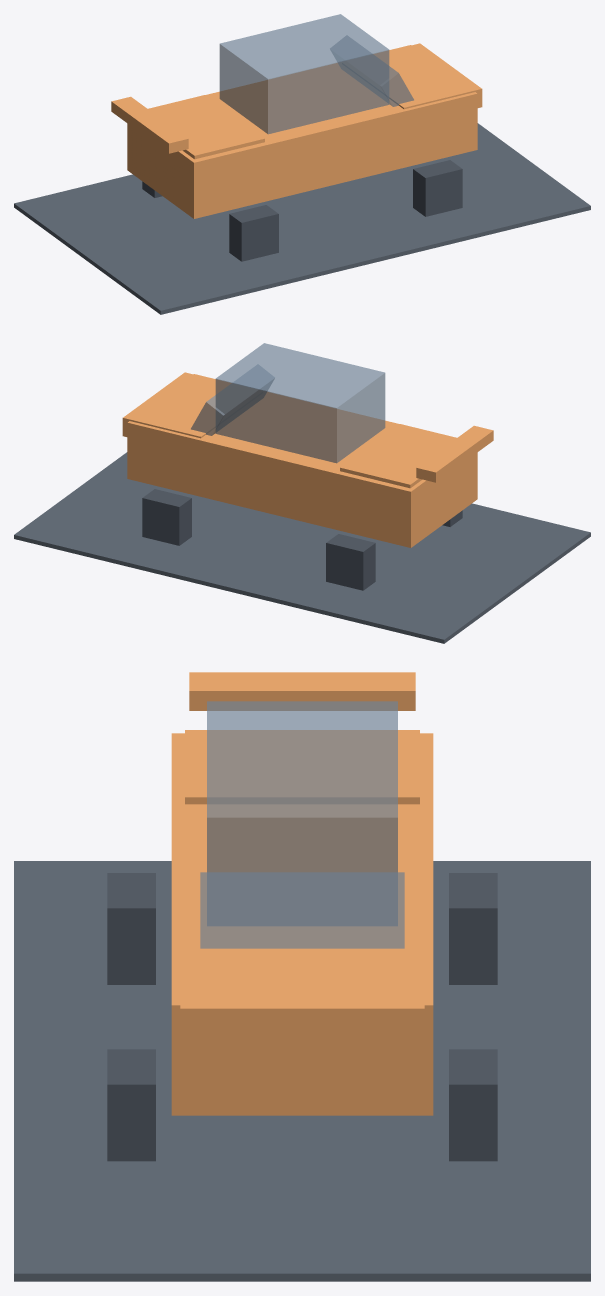
Rendered from aurora_x_showcar.gltf.
3 views of the same model, one above another, from view 1: azimuth 30°, elevation 25°; view 2: azimuth 150°, elevation 25°; view 3: azimuth 270°, elevation 25° (orthographic). The views are drawn at different scales.
Parts seen in each view (by area): view 1: ShowFloor, BodyCore, GlassCabin, FrontNose, RearDeck, Windshield, WheelFrontLeft, WheelRearLeft, RearSpoiler; view 2: ShowFloor, BodyCore, GlassCabin, FrontNose, RearDeck, Windshield, WheelFrontRight, WheelRearRight, RearSpoiler; view 3: ShowFloor, BodyCore, GlassCabin, FrontNose, RearDeck, Windshield, RearSpoiler, WheelFrontLeft, WheelFrontRight, WheelRearLeft, WheelRearRight.
Part boxes in pixels (x1,y1,x2,y2): ShowFloor: (14, 123, 590, 314); BodyCore: (127, 45, 477, 218); GlassCabin: (219, 14, 389, 134); FrontNose: (374, 43, 482, 109); RearDeck: (148, 95, 264, 159); Windshield: (330, 36, 413, 106); WheelFrontLeft: (413, 160, 462, 216); WheelRearLeft: (229, 205, 278, 261); RearSpoiler: (111, 96, 188, 153); ShowFloor: (14, 452, 590, 643); BodyCore: (127, 374, 477, 547); GlassCabin: (215, 343, 385, 463); FrontNose: (122, 372, 230, 438); RearDeck: (340, 424, 456, 488); Windshield: (191, 365, 274, 435); WheelFrontRight: (142, 489, 191, 545); WheelRearRight: (326, 534, 375, 590); RearSpoiler: (416, 425, 493, 482); ShowFloor: (14, 861, 590, 1281); BodyCore: (171, 733, 433, 1115); GlassCabin: (207, 701, 397, 925); FrontNose: (180, 933, 424, 1044); RearDeck: (185, 730, 419, 804); Windshield: (200, 872, 404, 948); RearSpoiler: (189, 672, 415, 710); WheelFrontLeft: (107, 1049, 155, 1161); WheelFrontRight: (449, 1049, 497, 1161); WheelRearLeft: (107, 873, 155, 984); WheelRearRight: (449, 873, 497, 984).
Size of the model in its own units: 4.4 by 1.58 by 2.6.
